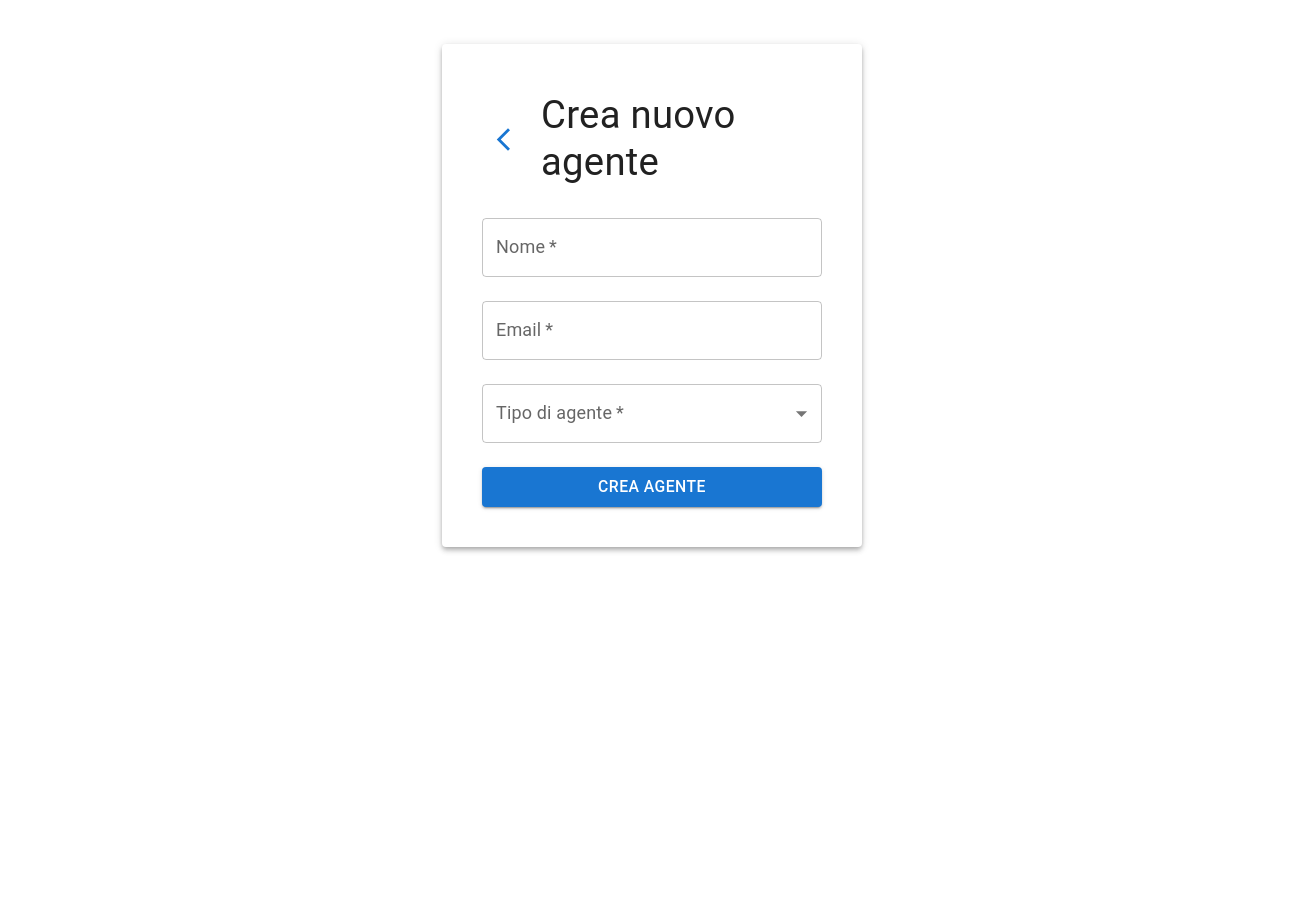
Test: CriarAgente › envia o formulário preenchido e retorna para a lista
Step 1. Type "Mario Rossi" into the field labelled "Nome" → [652, 248], box x1=482 y1=218 x2=822 y2=277
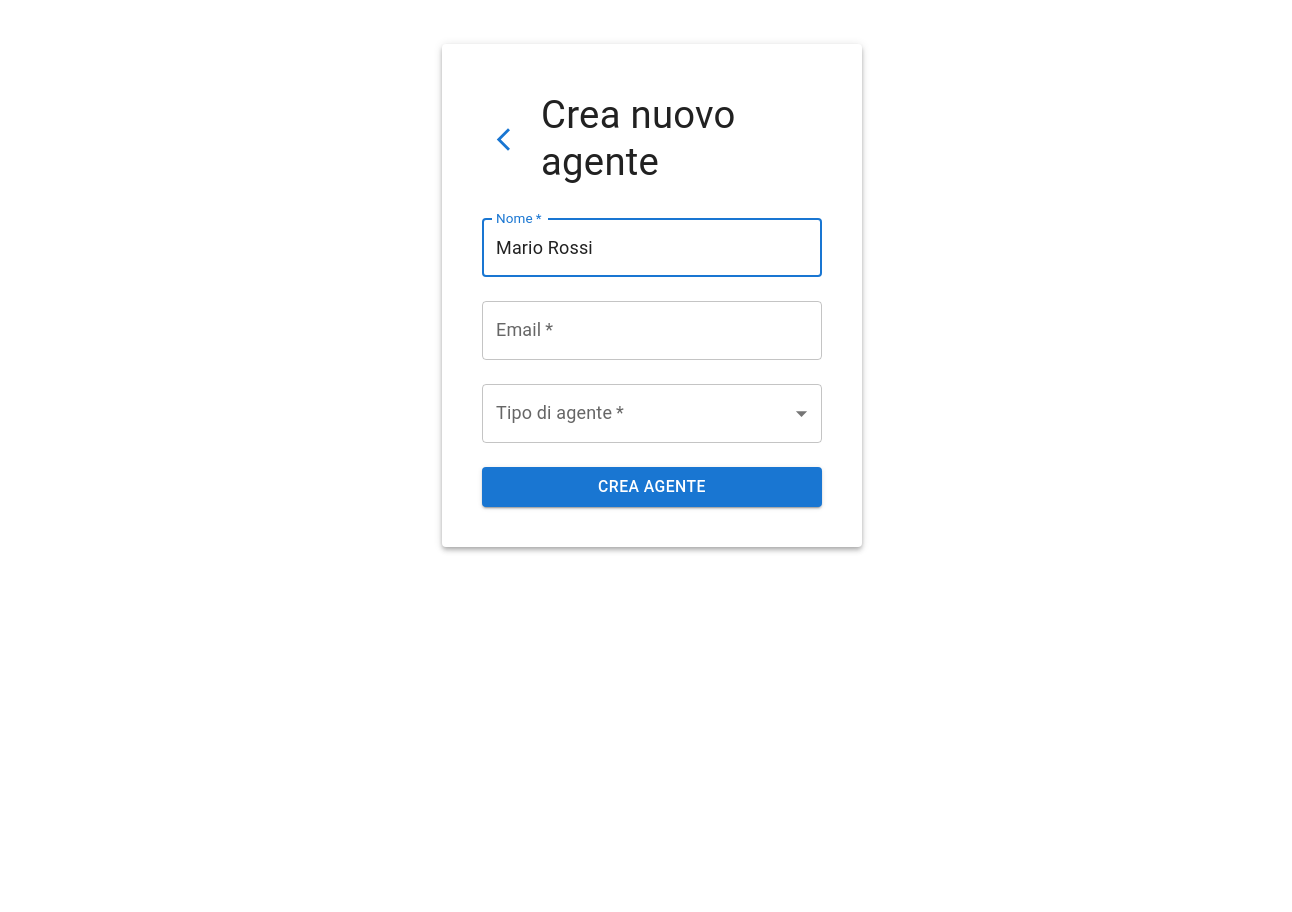
Step 2. Type "mario.rossi@example.com" into the field labelled "Email" → [652, 331], box x1=482 y1=301 x2=822 y2=360
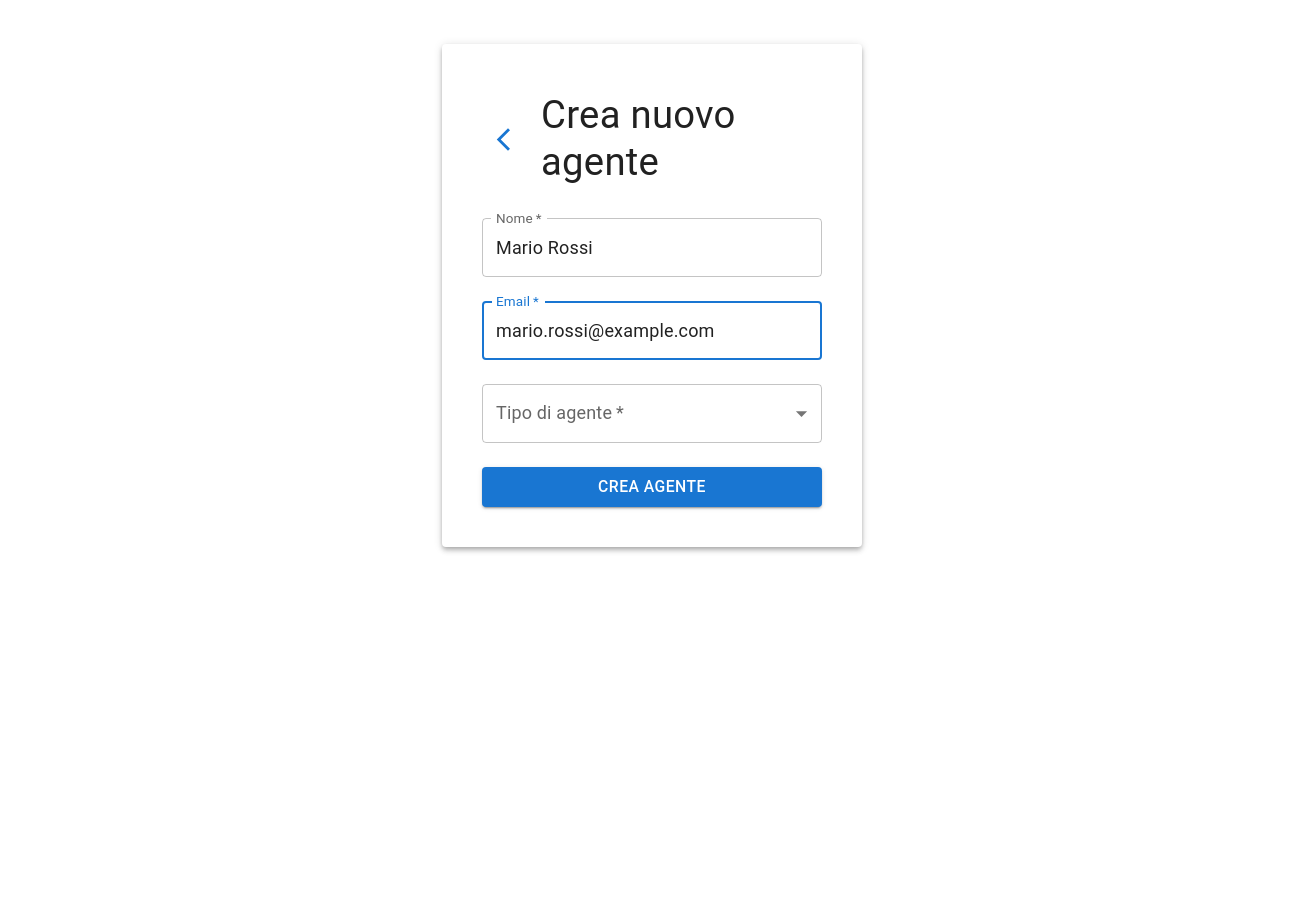
Step 3. Click the dropdown named "Tipo di agente" → [652, 414], box x1=482 y1=384 x2=822 y2=443
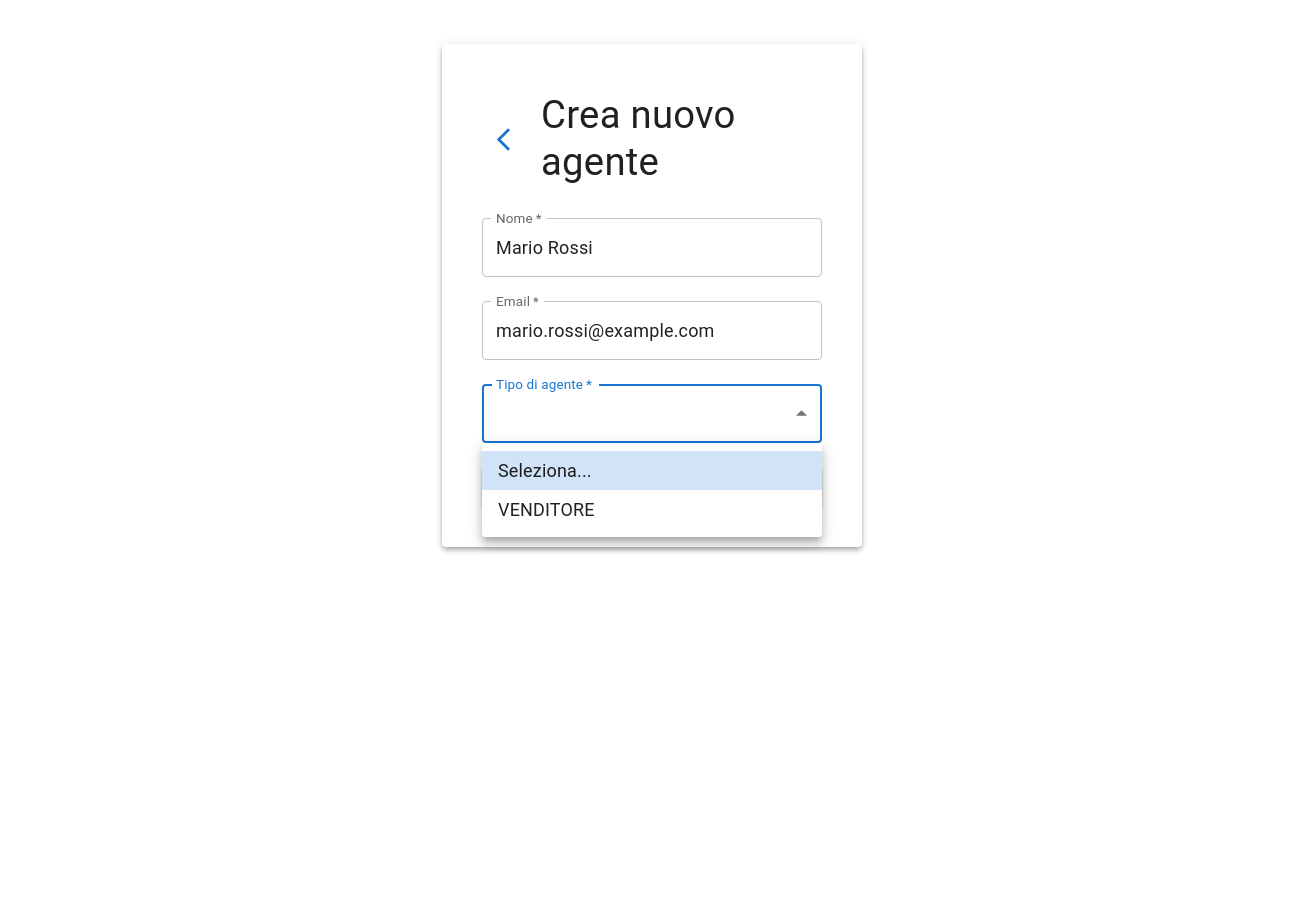
Step 4. Click the option "VENDITORE" → [546, 510], box x1=498 y1=499 x2=595 y2=520
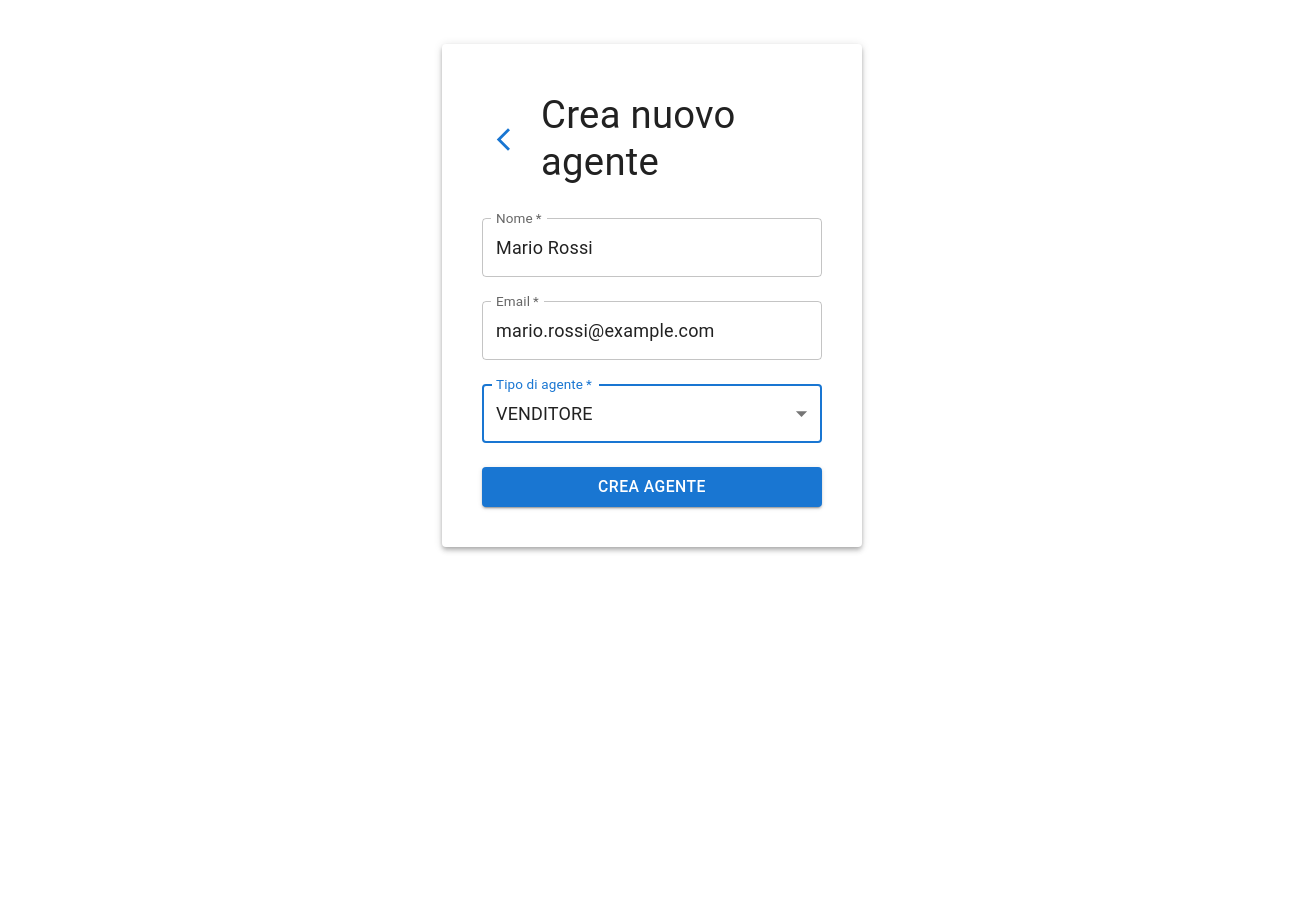
Step 5. Click the button "Crea agente" → [652, 487], box x1=482 y1=467 x2=822 y2=507
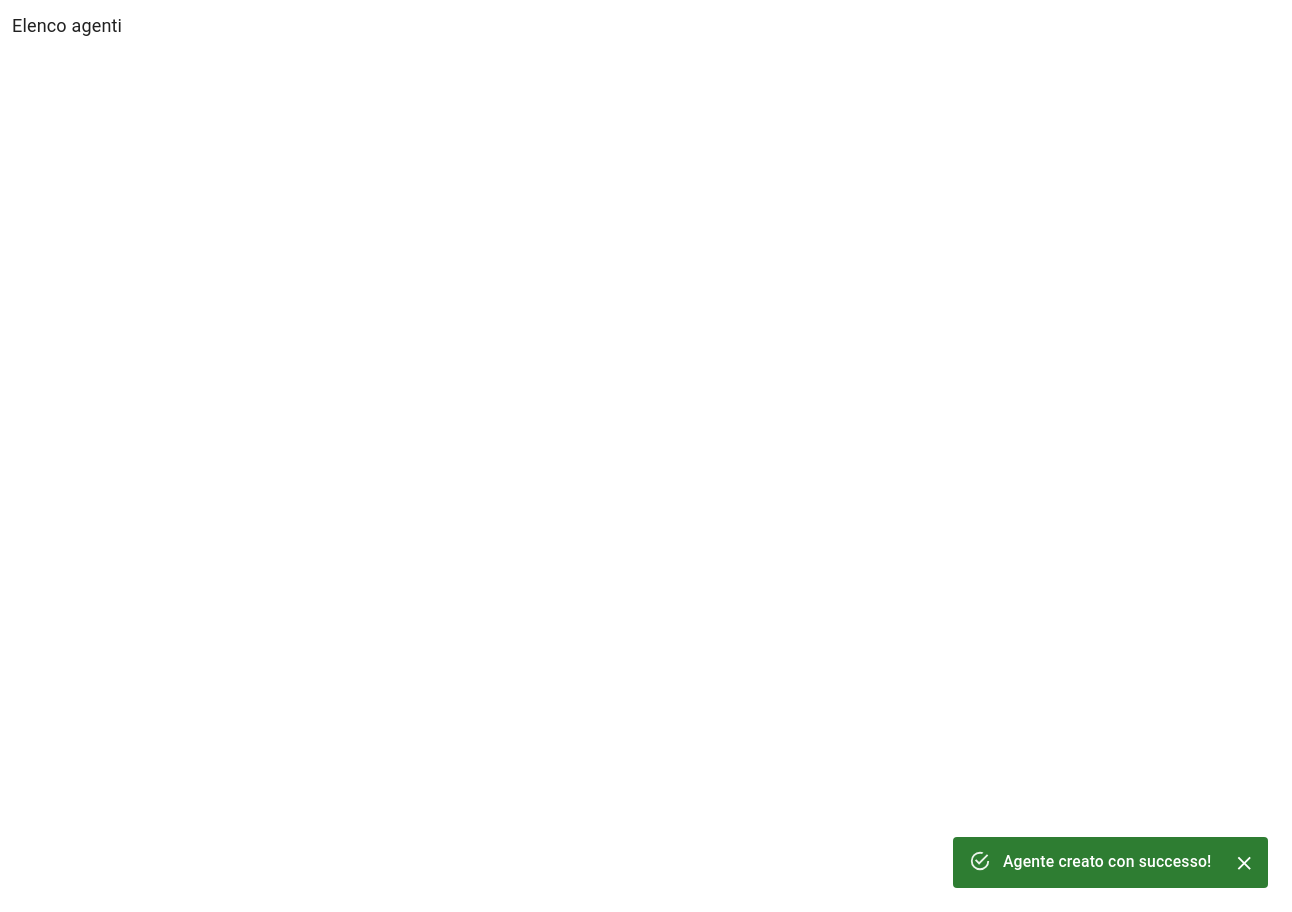
Now the text "Agente creato con successo!" is shown, box x1=1003 y1=852 x2=1212 y2=872
Now the text "Elenco agenti" is shown, box x1=12 y1=15 x2=122 y2=36
